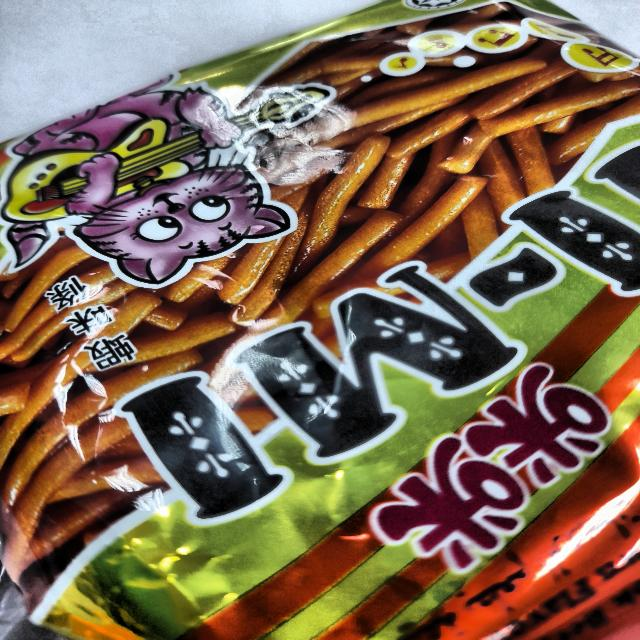Plastic: (5, 17, 640, 640)
